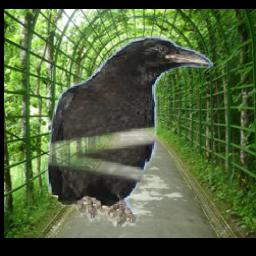Crow: (46, 35, 214, 226)
